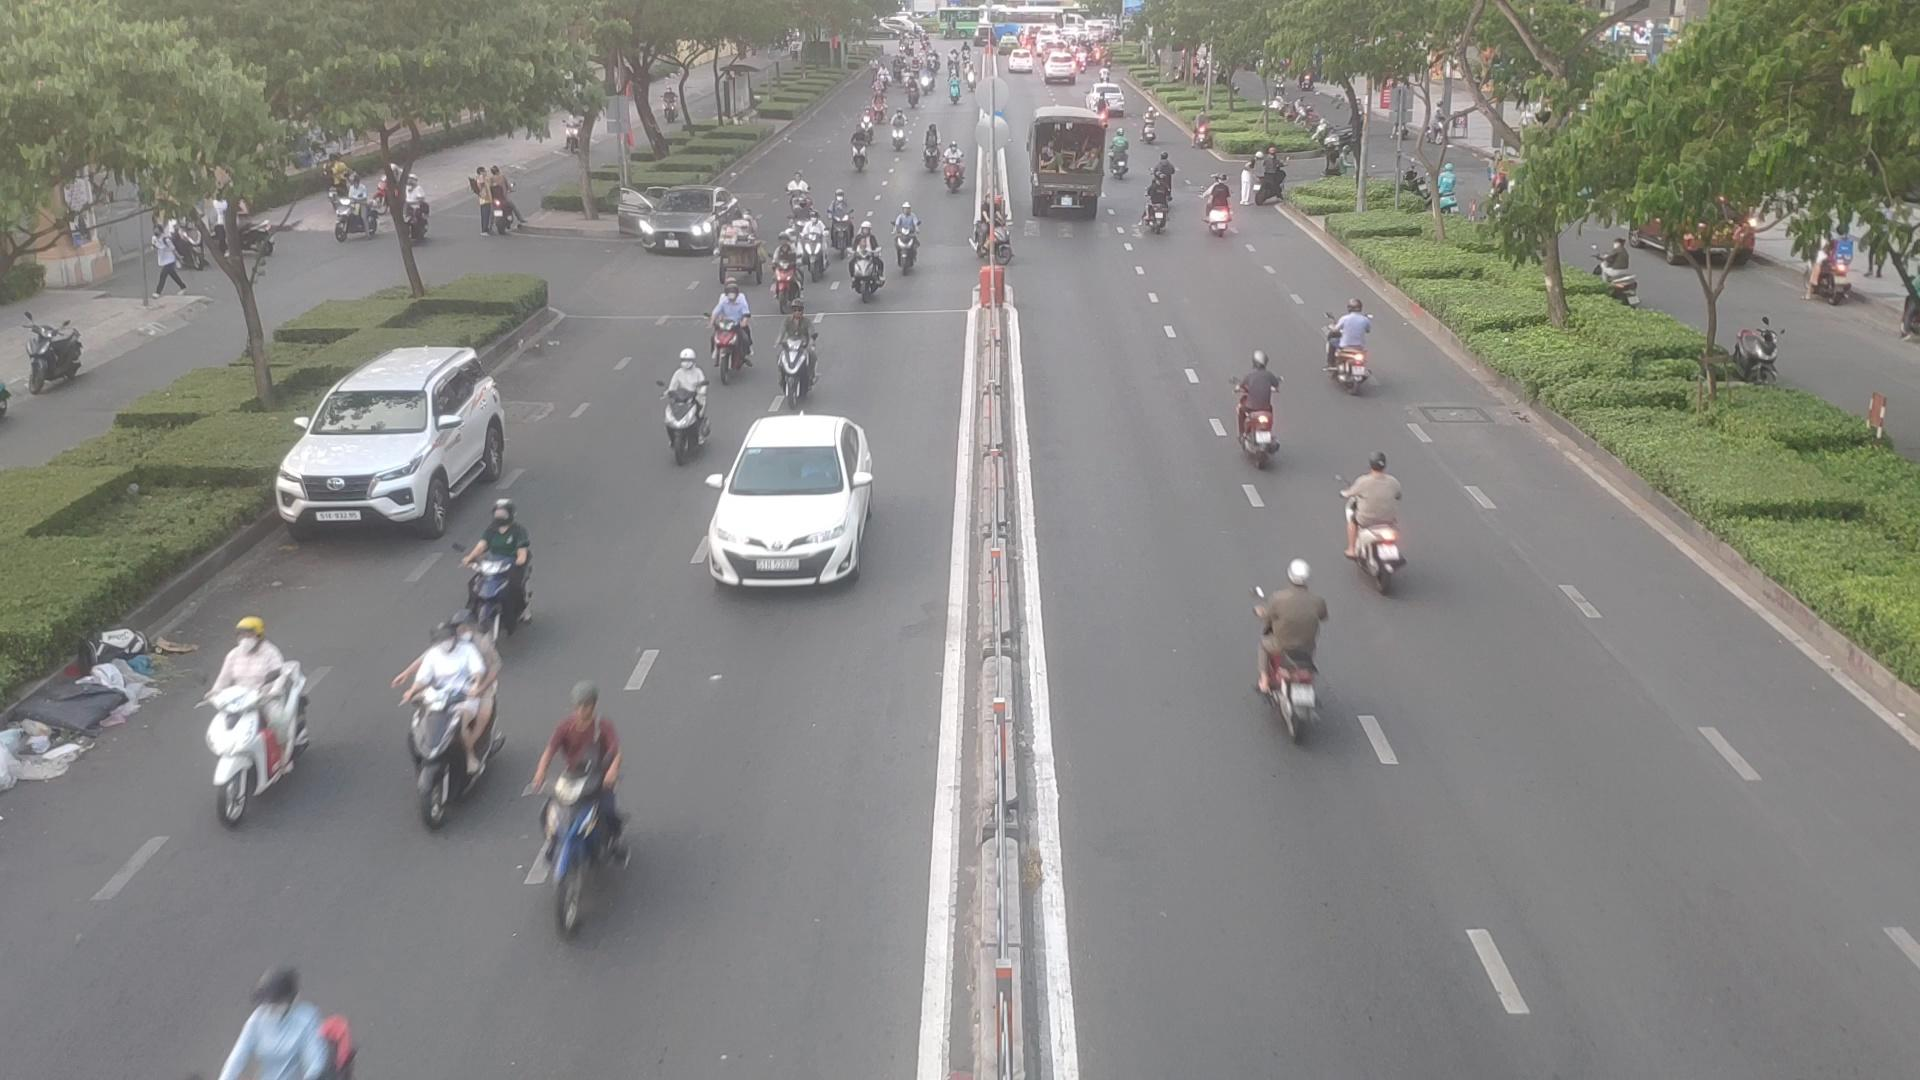car: (276, 349, 524, 539), (692, 411, 884, 585), (615, 193, 736, 260)
motorbike: (189, 620, 322, 816), (400, 630, 508, 818), (17, 621, 160, 753), (1240, 568, 1338, 733), (203, 990, 365, 1080), (458, 497, 545, 628), (1335, 452, 1418, 585), (651, 348, 713, 448), (1226, 357, 1284, 459), (1323, 301, 1383, 384), (705, 291, 758, 372), (847, 243, 886, 306), (887, 211, 920, 273), (1199, 181, 1233, 237), (824, 193, 858, 241), (1145, 189, 1175, 233), (943, 146, 971, 194), (884, 117, 910, 152)
